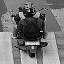mobil: (9, 4, 58, 57)
